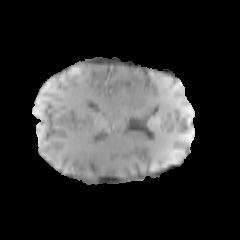glioma: (46, 65, 153, 99)
